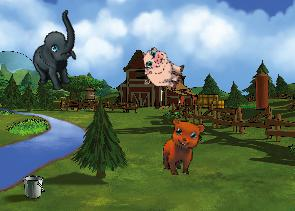bear: (162, 117, 205, 177)
elephant: (17, 9, 97, 96)
pig: (136, 44, 188, 94)
